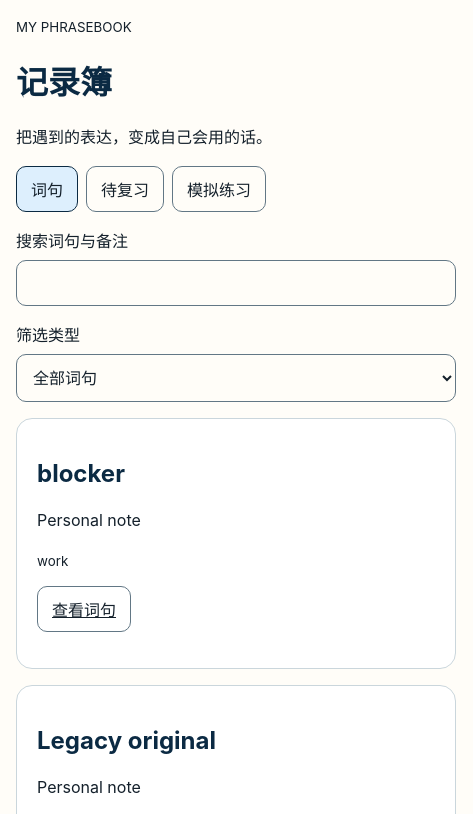
keeps local search out of URL and makes legacy accepted note IDs readable in place
The width and height of the screenshot is (473, 814).
Check: the heading "Legacy original" is shown, box [37, 726, 216, 755]
Type "Legacy" into the field labelled "搜索词句与备注".
click(236, 284); type("Legacy")  # box [16, 260, 456, 306]
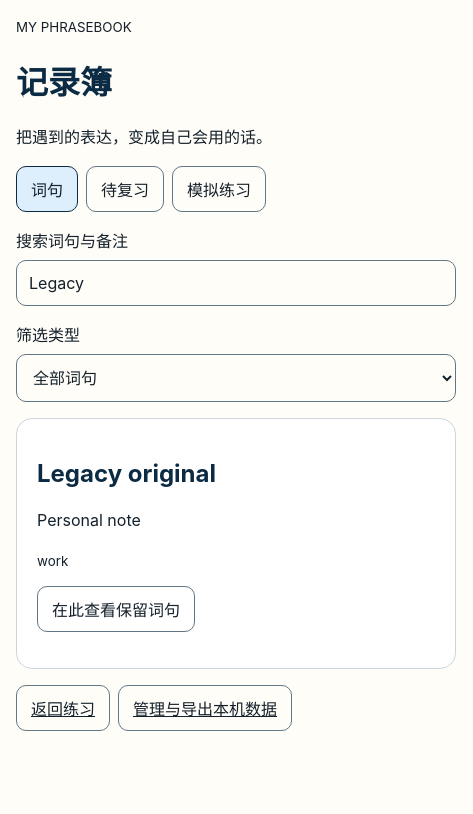
Click the button "在此查看保留词句".
click(116, 609)  # box [37, 586, 195, 632]
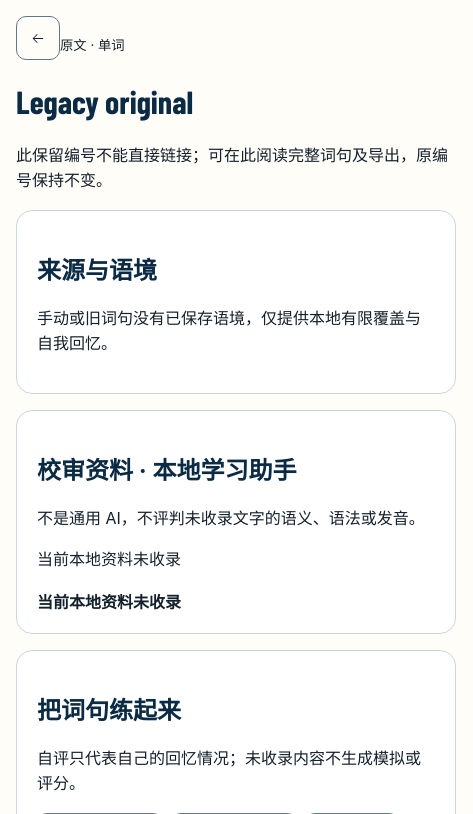
Check: the heading "Legacy original" is shown, box [16, 82, 193, 120]
Check: the text "此保留编号不能直接链接；可在此阅读完整词句及导出，原编号保持不变。" is shown, box [16, 143, 456, 194]
